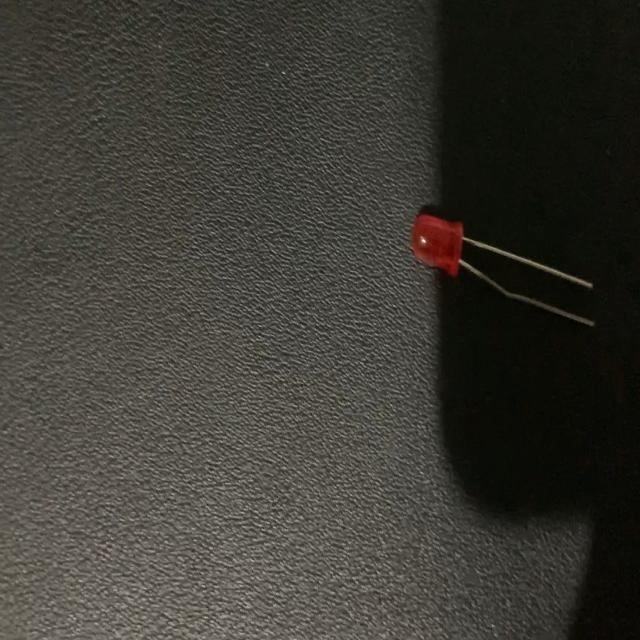LED: (410, 206, 598, 332)
